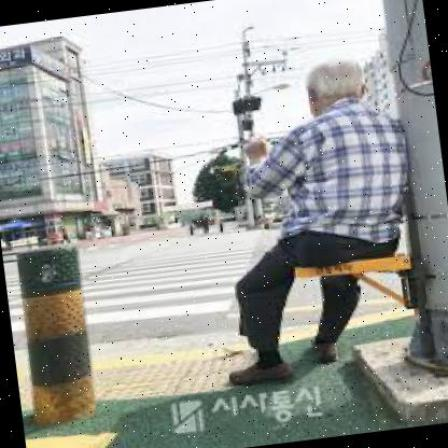silver: (197, 55, 425, 389)
